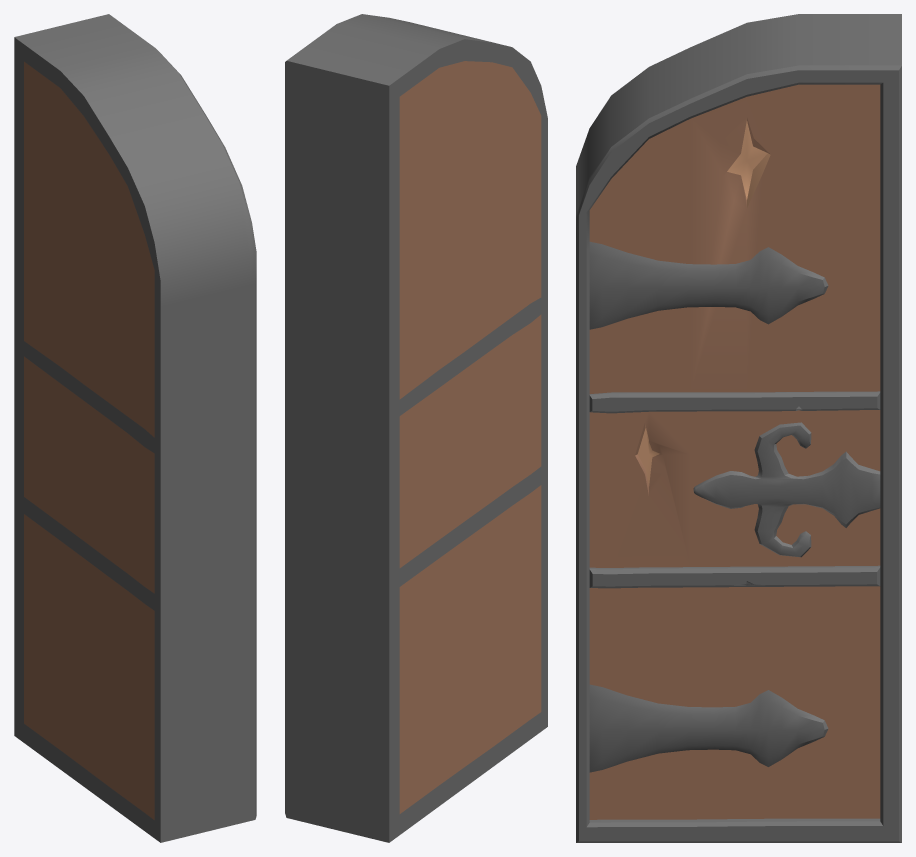
Rendered from BigDoorRight_01.fbx.
3 renders of one model, left to right at view 1: azimuth 30°, elevation 25°; view 2: azimuth 150°, elevation 25°; view 3: azimuth 270°, elevation 25°, orthographic. The views are drawn at different scales.
Visible parts, largest first — view 1: Cube.026; view 2: Cube.026; view 3: Cube.026.
Boxes of the visible parts, left/top/right/bottom form: Cube.026: left=14, top=14, right=256, bottom=842; Cube.026: left=285, top=14, right=547, bottom=842; Cube.026: left=576, top=14, right=901, bottom=842.
Bounding box in the file's own units: 120 × 821 × 312.
